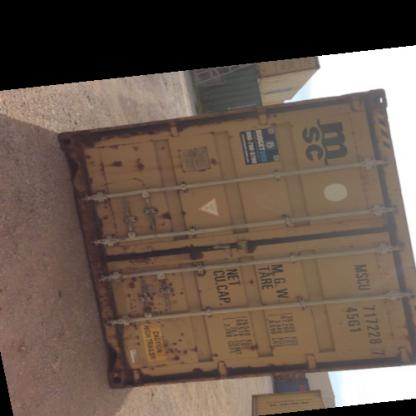Damage: (126, 270, 188, 321), (92, 197, 124, 247), (162, 329, 202, 365), (152, 202, 194, 230), (101, 154, 127, 191), (117, 322, 148, 352), (228, 235, 266, 258), (204, 127, 242, 146), (80, 148, 98, 188), (197, 156, 221, 179), (134, 152, 154, 176), (186, 246, 212, 264), (275, 208, 299, 226), (98, 139, 126, 153), (246, 340, 267, 356), (248, 274, 264, 286)
